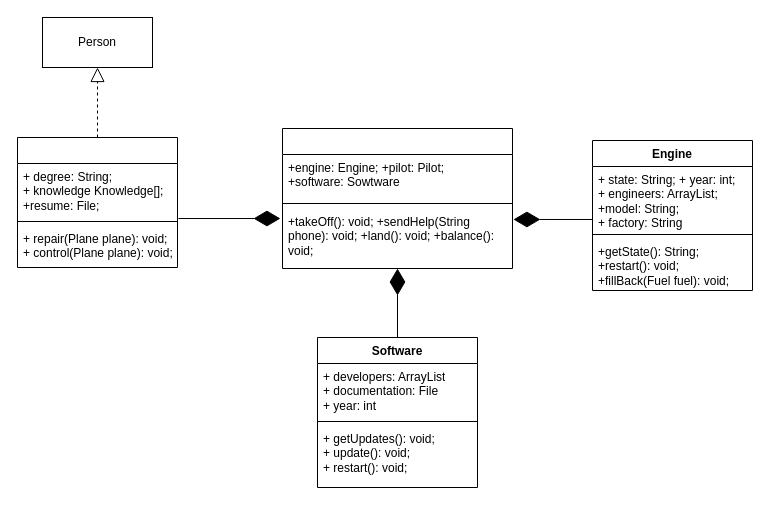
This 770x508 diagram has some shape labels left out. Here are the shapes that lost their labels. From the top down, the box of each, then its label:
(16, 136, 178, 268): Pilot
(282, 128, 512, 268): Plane
